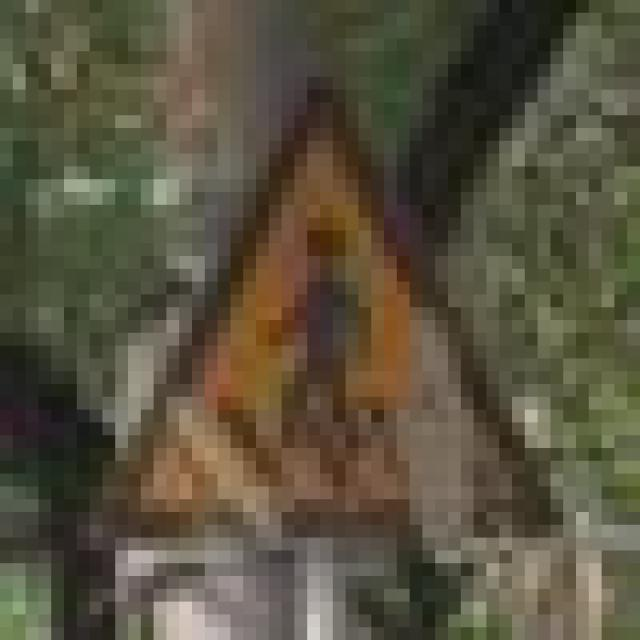pass_either_side: (64, 64, 550, 538)
